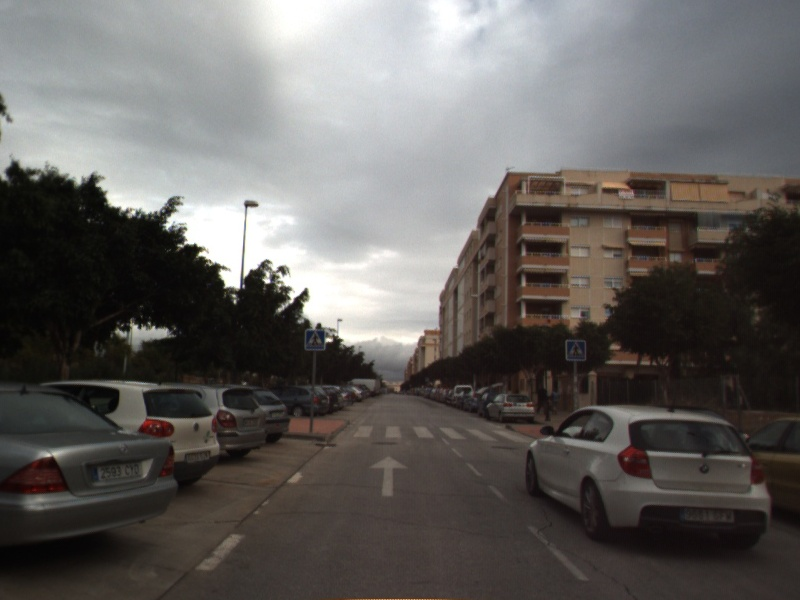STRAIGHT: (367, 453, 410, 498)
